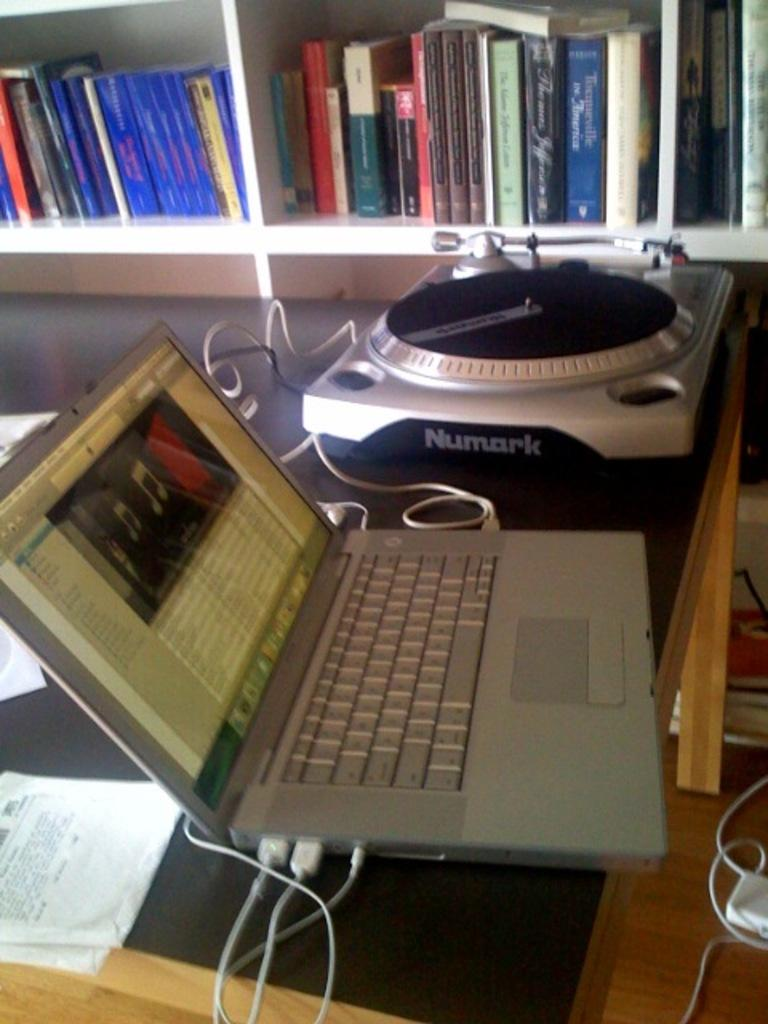Book: (270, 0, 653, 222), (0, 45, 250, 222), (653, 0, 766, 229)
Computer-keyboard: (278, 554, 496, 786)
